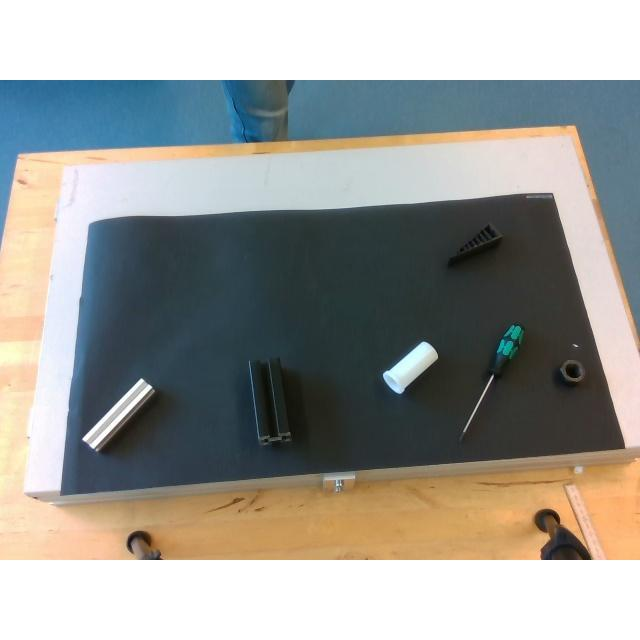F20_20_G: (82, 374, 158, 454)
M20: (558, 358, 586, 386)
S40_40_B: (250, 357, 290, 443)
Screwdriver: (458, 320, 526, 444)
Spacer: (382, 340, 441, 394)
